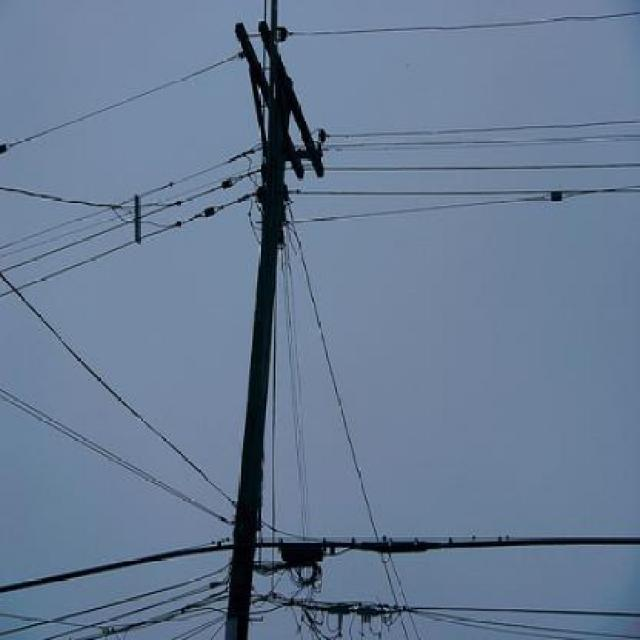pole: (197, 21, 314, 640)
